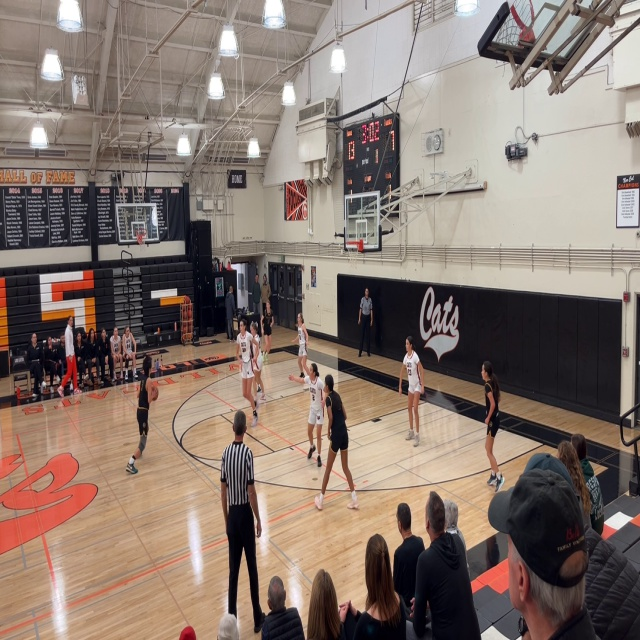Basketball: (148, 387, 158, 401)
